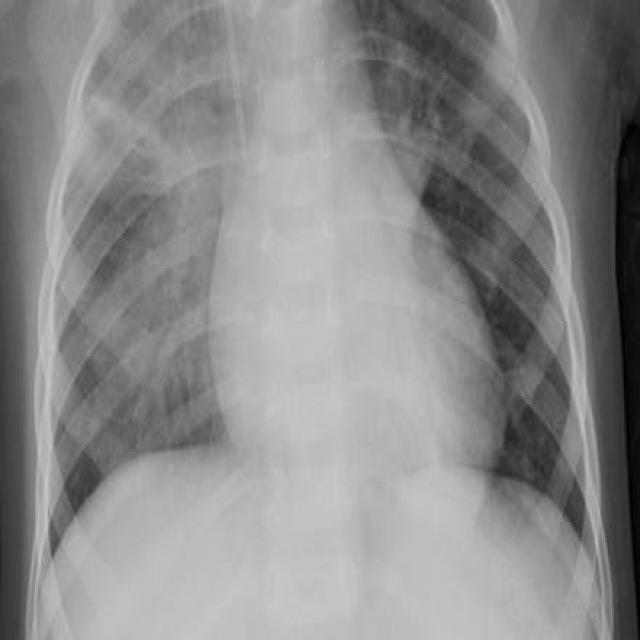low-pneumonia: (113, 101, 222, 389), (370, 25, 471, 188)
